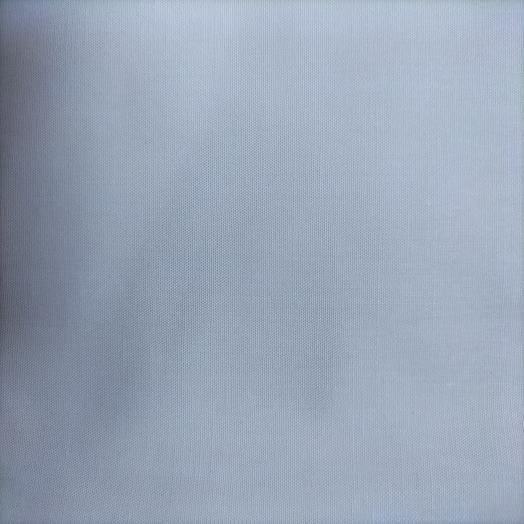katun: (0, 1, 524, 524)
